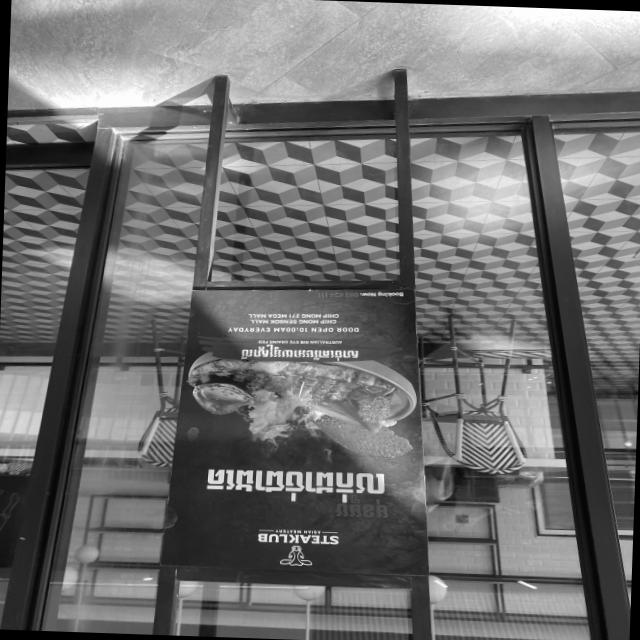446: (317, 291, 359, 298)
529: (272, 326, 308, 333)
688: (288, 313, 299, 318)
Yolov11kh: (198, 462, 394, 504), (235, 344, 363, 362), (332, 492, 390, 521)
